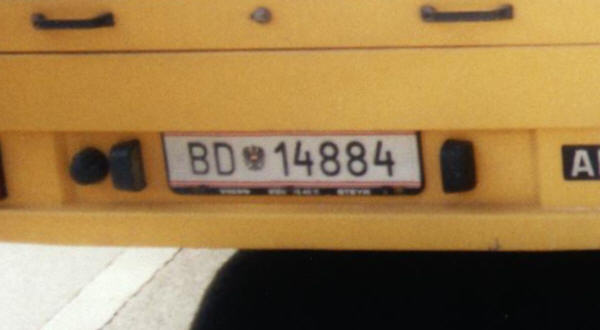license_plate: (160, 131, 426, 189)
